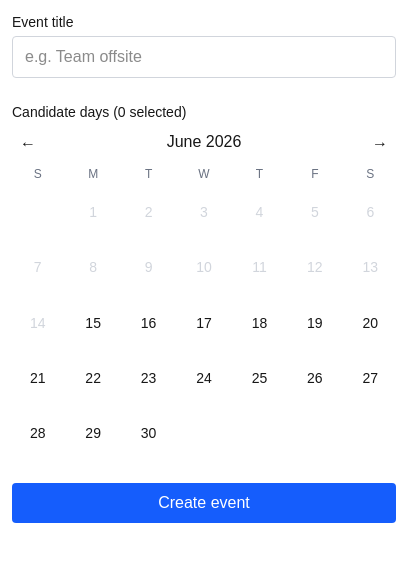
CreateEventForm › shows a validation error when no days are selected
Type "Team Offsite" into the field labelled "Event title" at (204, 57), box 12,36 -> 396,78
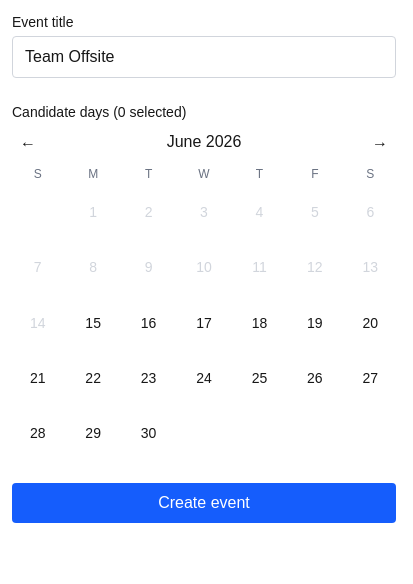
Click the button "Create event" at (204, 503), box 12,483 -> 396,523
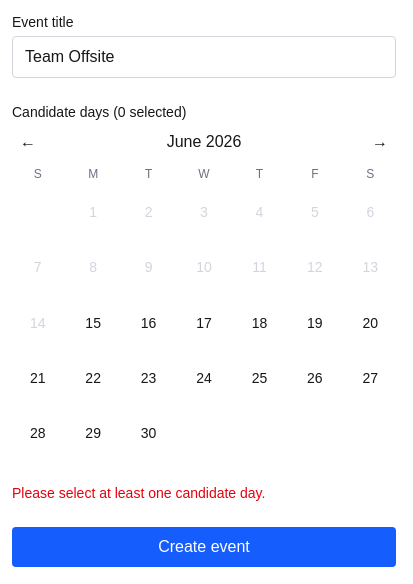
Check: the text "Please select at least one candidate day." is shown, box 12,485 -> 266,501
